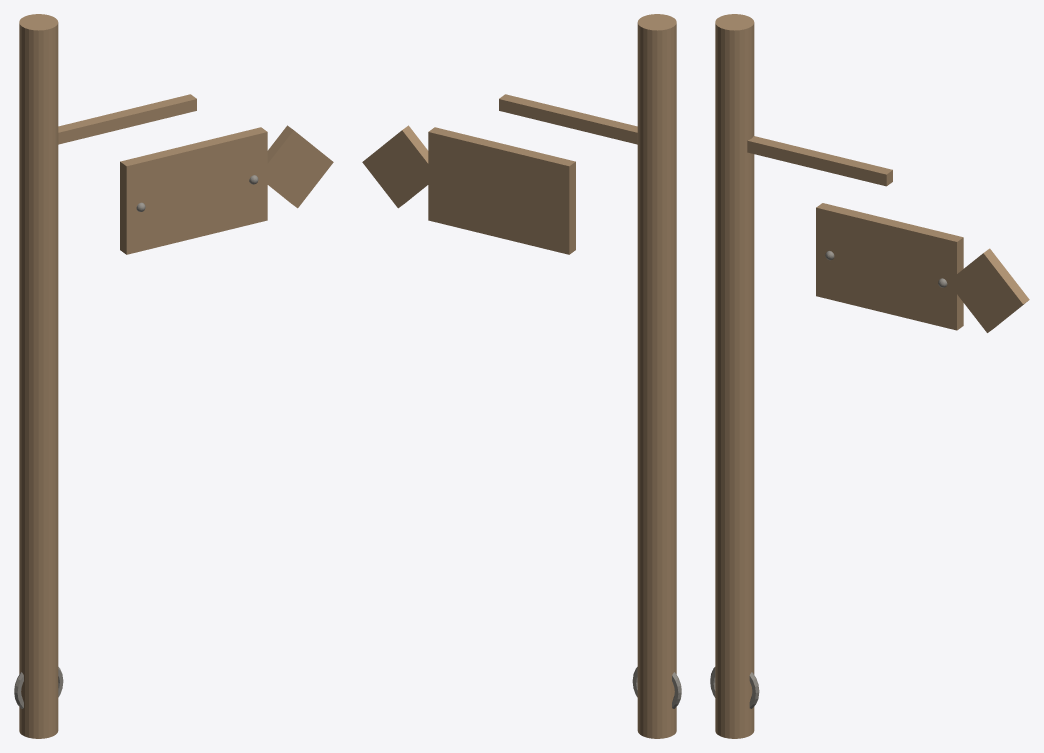
Rendered from VillagerSignpost.fbx.
The picture shows the model from 3 angles, left to right: view 1: azimuth 30°, elevation 25°; view 2: azimuth 150°, elevation 25°; view 3: azimuth 330°, elevation 25°; orthographic projection.
Parts seen in each view (by area): view 1: VillagerSignpost; view 2: VillagerSignpost; view 3: VillagerSignpost.
Boxes of the visible parts, <box> form: VillagerSignpost: <box>14,14,333,738</box>; VillagerSignpost: <box>362,14,681,738</box>; VillagerSignpost: <box>710,14,1029,738</box>.
Size of the model in its own units: 1.12 by 2.4 by 0.12.
